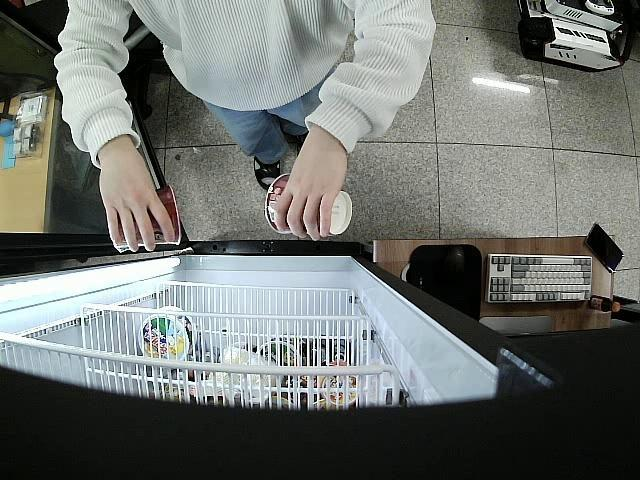06_nuguri_S: (265, 174, 352, 235), (110, 186, 181, 250)
